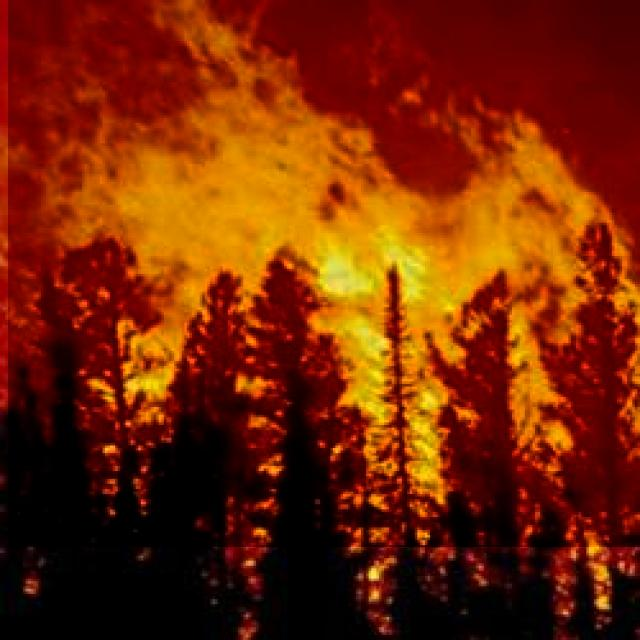Fire: (8, 0, 640, 547)
